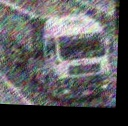truck: (0, 0, 115, 104)
